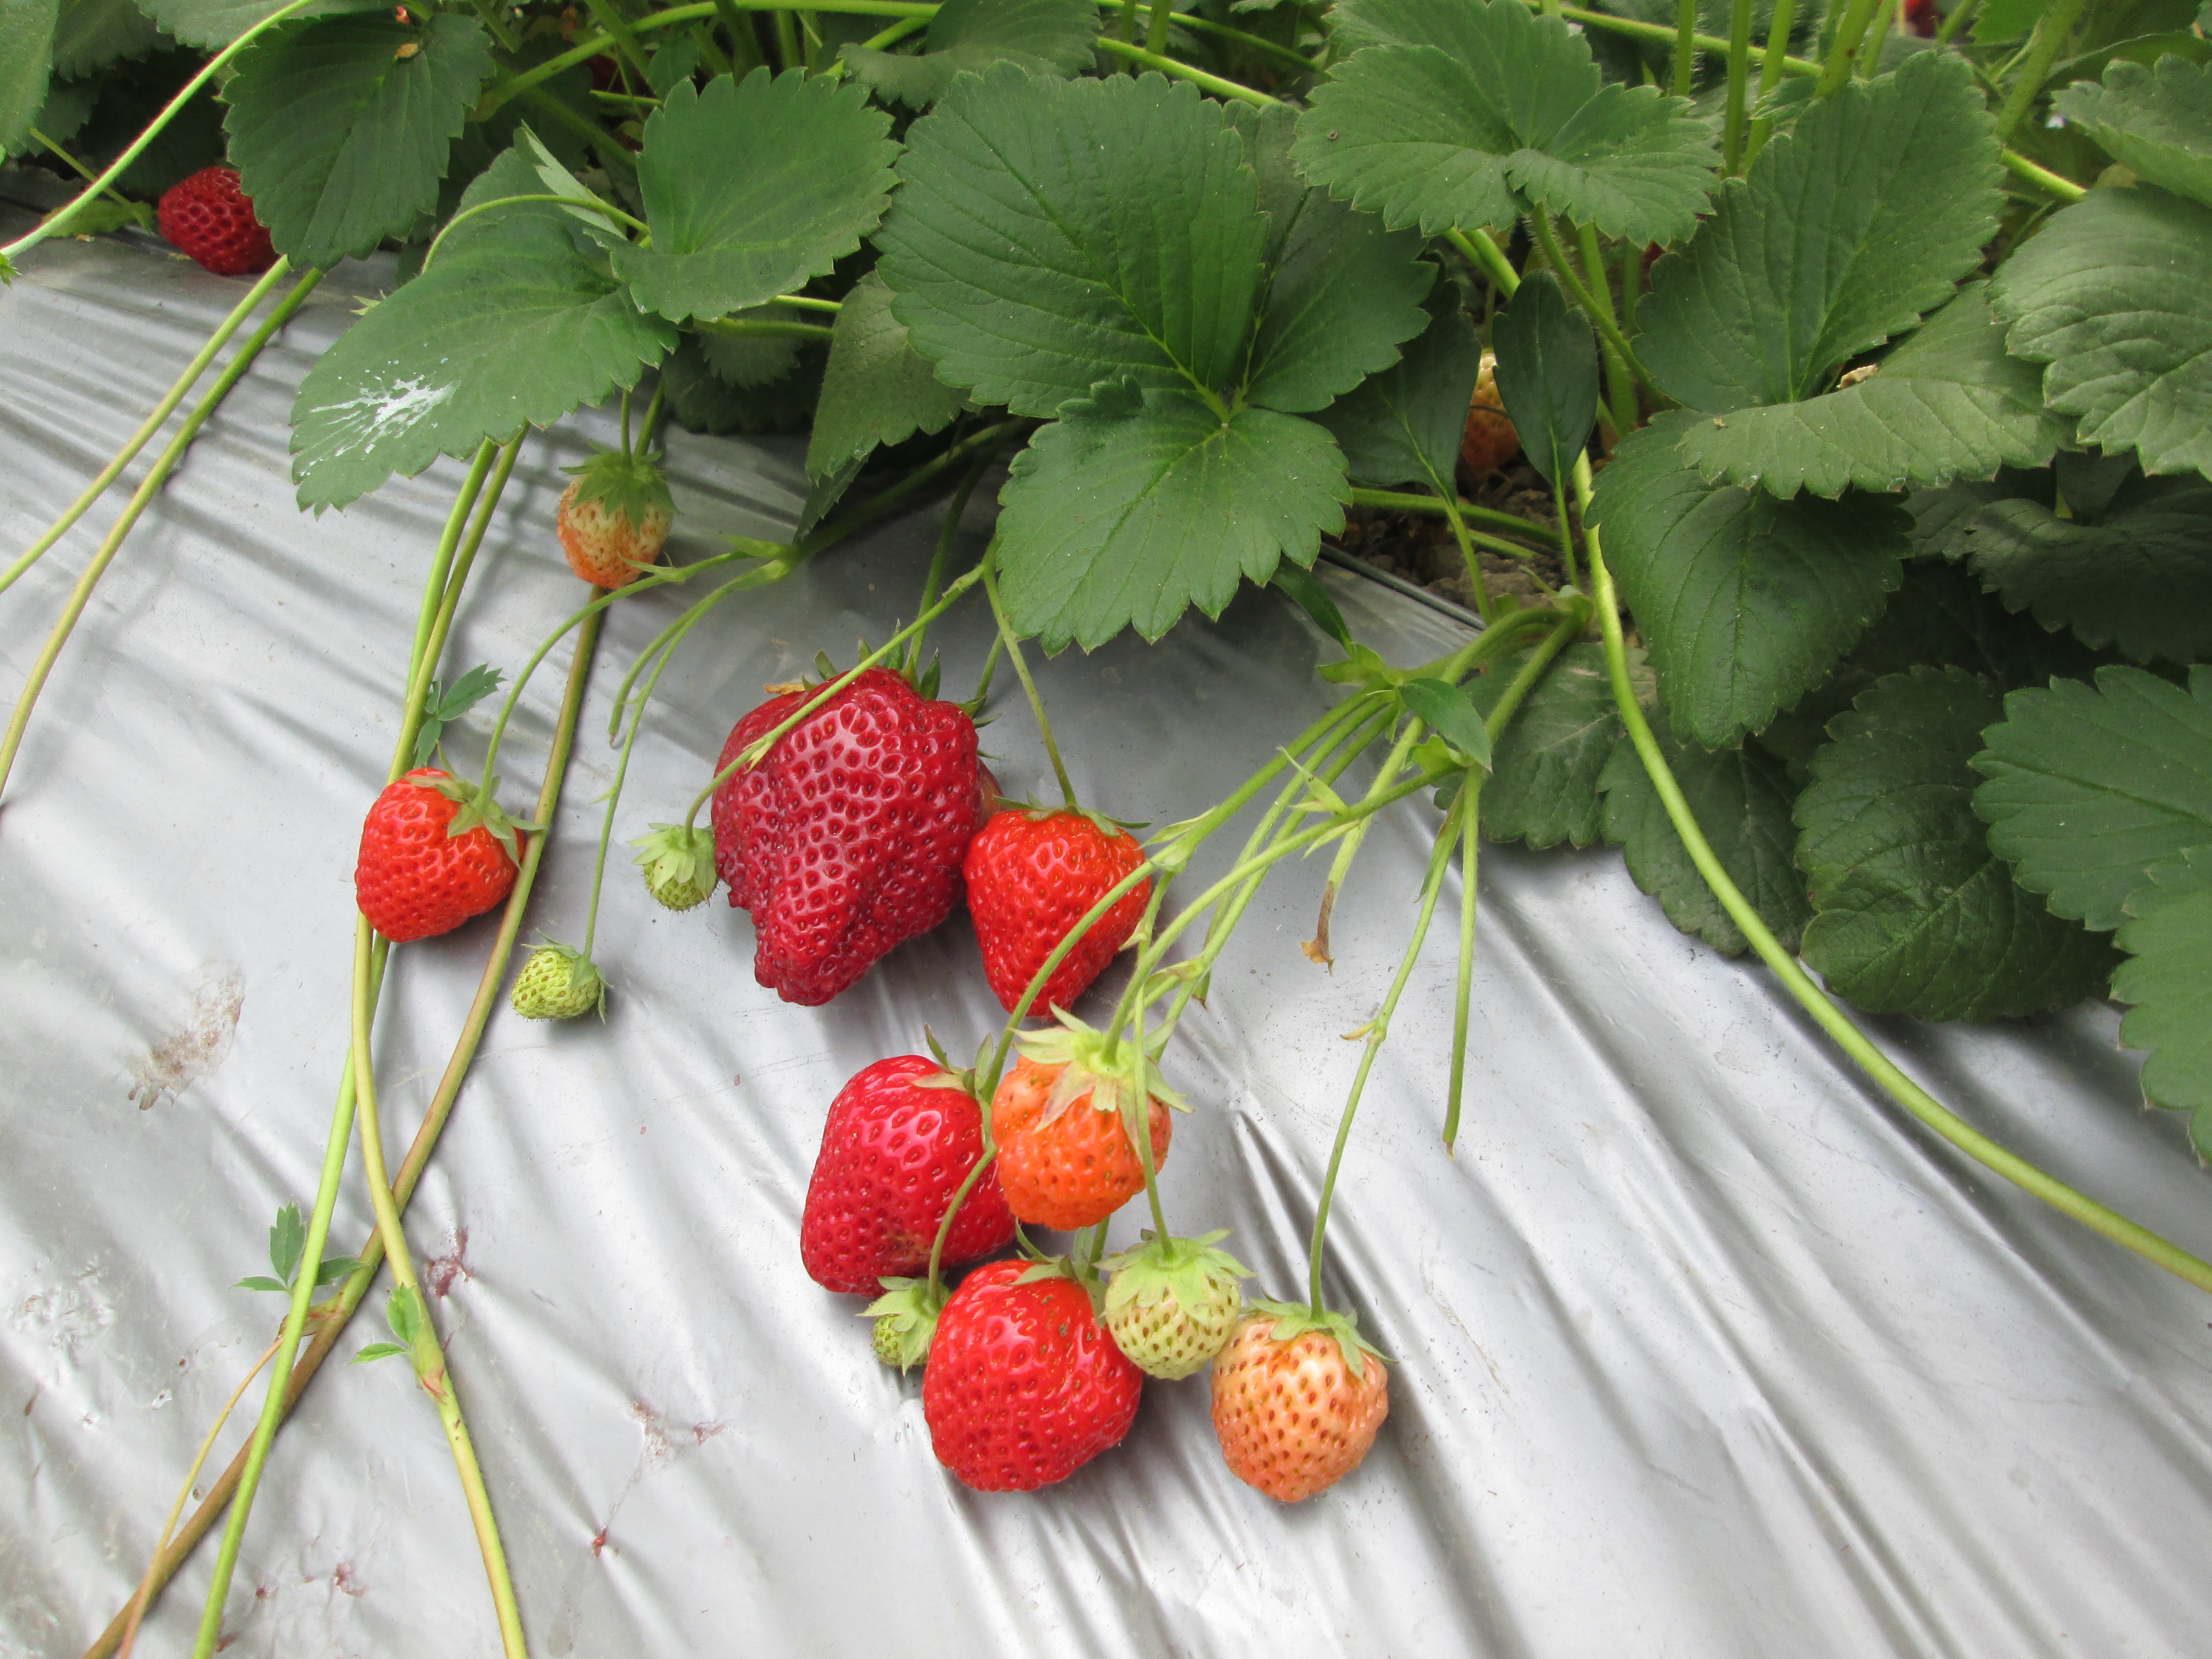StrawberryCone: (691, 659, 1010, 1006), (782, 1061, 1015, 1298), (921, 1256, 1148, 1495), (958, 795, 1165, 1028), (336, 763, 535, 953)
StrawberryIrremovable: (1205, 1316, 1407, 1506), (984, 1037, 1176, 1229), (1103, 1244, 1240, 1378), (1442, 340, 1555, 479), (559, 458, 672, 591), (509, 941, 601, 1035), (869, 1277, 951, 1378), (643, 821, 725, 915)
StrawberryOther: (148, 152, 287, 277)
StrawberryRemovable: (705, 666, 998, 1002), (787, 1060, 1010, 1297), (925, 1258, 1148, 1492), (960, 805, 1157, 1028), (345, 767, 526, 946), (152, 150, 284, 277)
